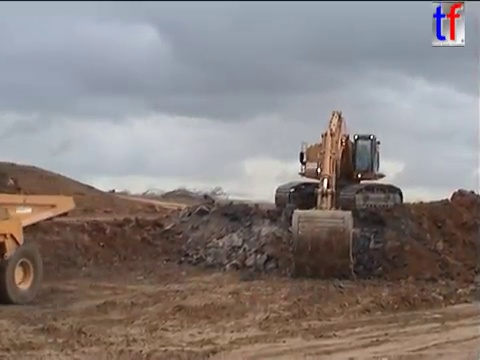excavator: (271, 108, 405, 282)
truck: (1, 187, 78, 306), (1, 204, 26, 249)
